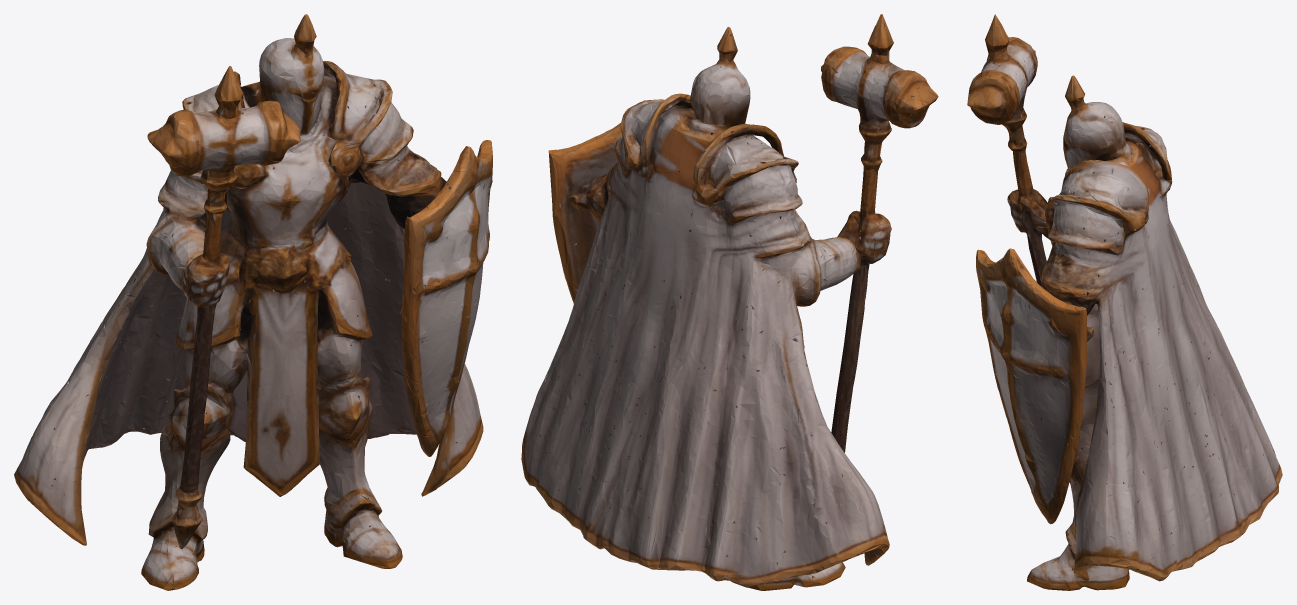
The model's file is Ange_Gardien.glb.
3 views of the same model, side by side, from view 1: azimuth 30°, elevation 25°; view 2: azimuth 150°, elevation 25°; view 3: azimuth 270°, elevation 25° (orthographic). The views are drawn at different scales.
Parts seen in each view (by area): view 1: geometry_0; view 2: geometry_0; view 3: geometry_0.
Part boxes in pixels (x1,y1,x2,y2): geometry_0: (14,14,492,590); geometry_0: (521,14,938,590); geometry_0: (967,14,1282,590).
Size of the model in its own units: 0.7842 by 0.9993 by 0.5827.
Materials: 1 (1 with a texture image).
